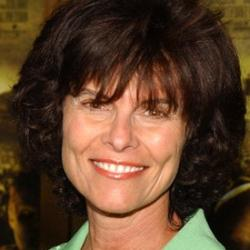face: (9, 3, 233, 221)
